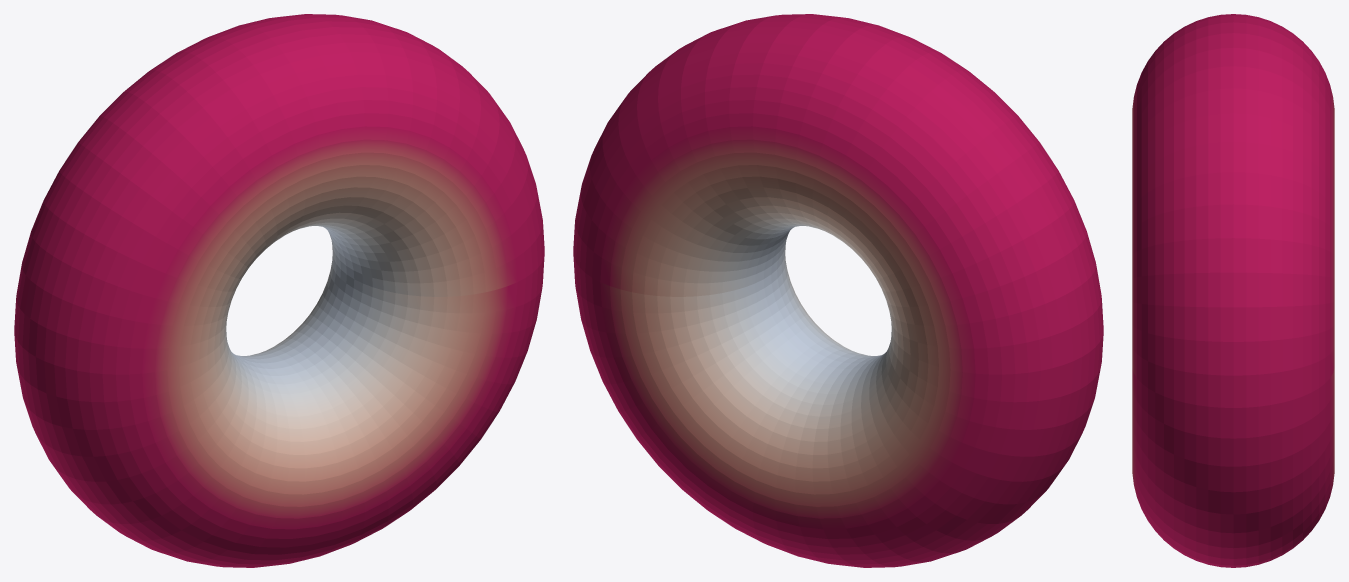
3 renders of one model, left to right at view 1: azimuth 30°, elevation 25°; view 2: azimuth 150°, elevation 25°; view 3: azimuth 270°, elevation 25°, orthographic. The views are drawn at different scales.
Parts seen in each view (by area): view 1: world; view 2: world; view 3: world.
Boxes of the visible parts, box(x1,y1,x2,y2) form: world: box(14, 14, 544, 567); world: box(573, 14, 1103, 567); world: box(1132, 14, 1334, 567).
Size of the model in its own units: 27.33 by 27.28 by 9.98.
